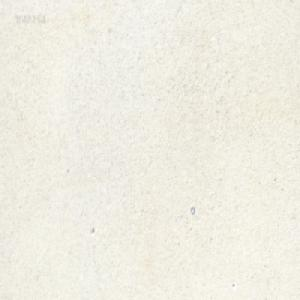Washer: (190, 205, 195, 214)
